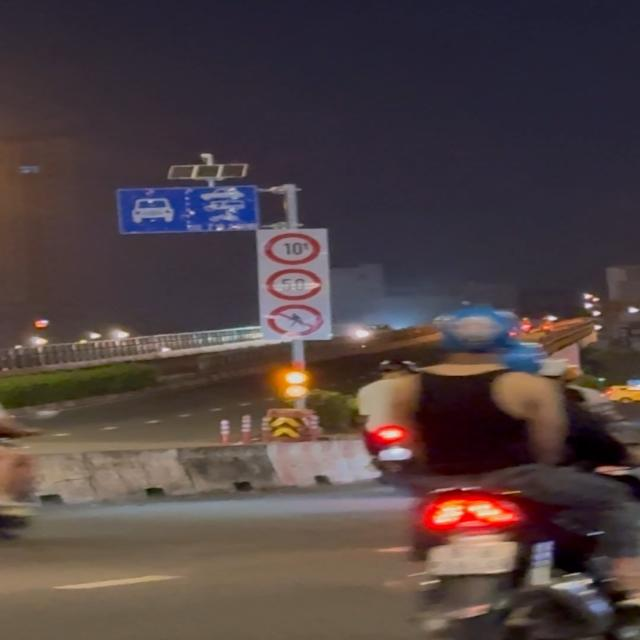Bien bao cam nguoi di bo: (267, 302, 329, 336)
Bien bao toc do toi da cho phep: (264, 268, 325, 302)
